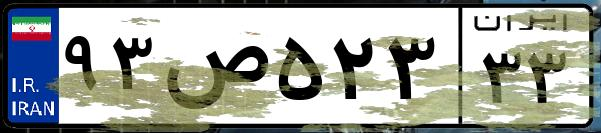2: (330, 28, 385, 110)
3: (385, 28, 445, 110), (475, 38, 525, 113), (525, 38, 570, 115), (110, 28, 158, 98)
5: (270, 28, 330, 110)
9: (57, 26, 110, 100)
ص: (158, 20, 270, 120)
